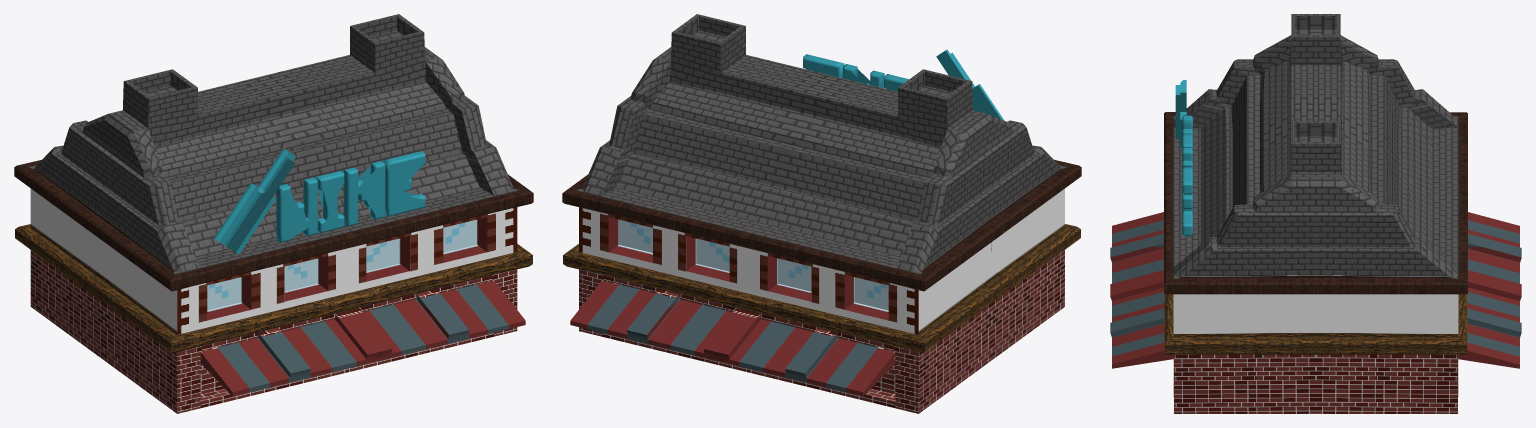
The model's file is wine and spirits 1.fbx.
The picture shows the model from 3 angles, left to right: view 1: azimuth 30°, elevation 25°; view 2: azimuth 150°, elevation 25°; view 3: azimuth 270°, elevation 25°; orthographic projection. The views are drawn at different scales.
Visible parts, largest first — view 1: pCube7, polySurface1, pCube3; view 2: pCube7, polySurface1, pCube3; view 3: pCube7, polySurface1, pCube3.
Boxes of the visible parts, x1=… form: pCube7: x1=14, y1=14, x2=533, y2=413; polySurface1: x1=276, y1=151, x2=425, y2=242; pCube3: x1=214, y1=148, x2=295, y2=254; pCube7: x1=562, y1=14, x2=1081, y2=413; polySurface1: x1=803, y1=54, x2=908, y2=91; pCube3: x1=936, y1=49, x2=1004, y2=120; pCube7: x1=1110, y1=14, x2=1521, y2=413; polySurface1: x1=1182, y1=115, x2=1192, y2=236; pCube3: x1=1175, y1=80, x2=1186, y2=147.
Size of the model in its own units: 17.25 by 11.91 by 17.46.
3 materials, 1 textured.
